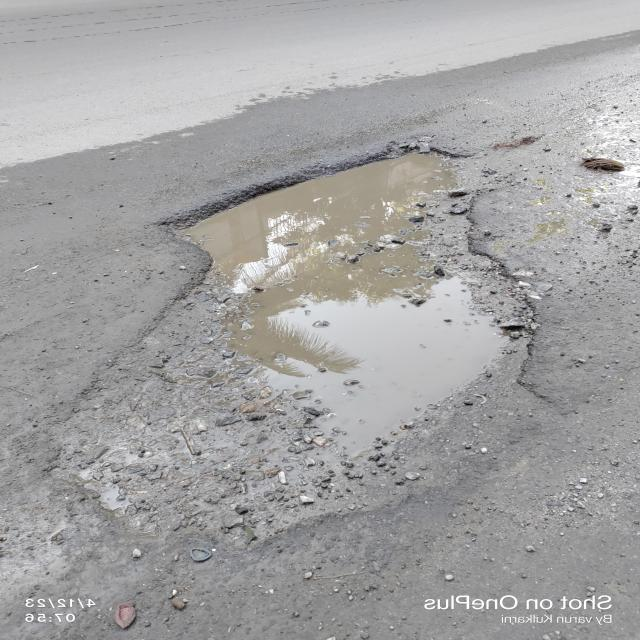Puddle pothole: (54, 136, 531, 517)
